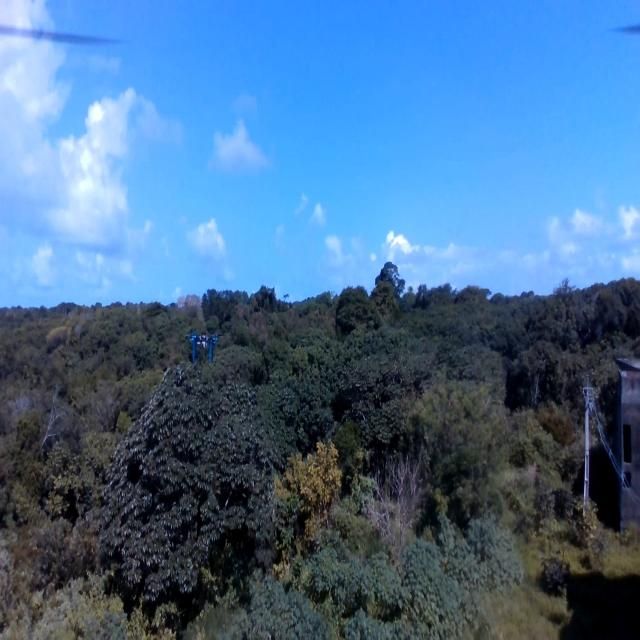-uav-: (186, 324, 222, 369)
